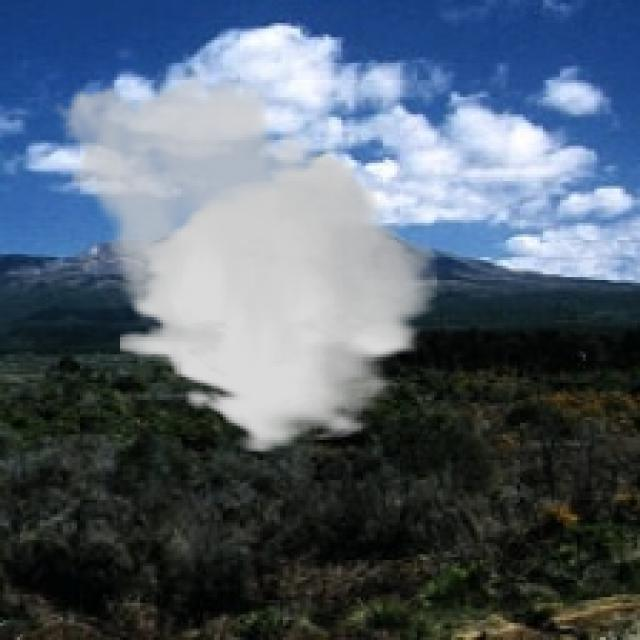Smoke: (46, 62, 437, 454)
